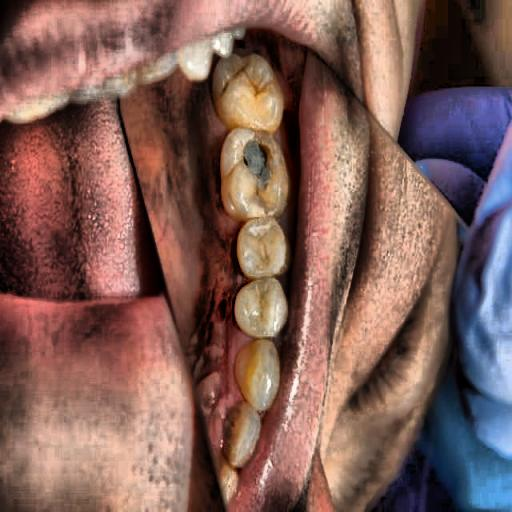Caries: (215, 114, 294, 226)
